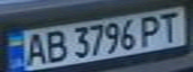3: (69, 25, 90, 58)
6: (118, 17, 142, 51)
7: (87, 21, 109, 56)
9: (103, 19, 124, 53)
A: (18, 30, 51, 66)
B: (39, 28, 69, 64)
P: (136, 12, 166, 47)
T: (154, 9, 187, 43)
